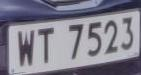2: (103, 19, 120, 57)
3: (119, 14, 137, 56)
5: (87, 20, 103, 56)
7: (65, 20, 84, 64)
T: (36, 25, 59, 70)
W: (14, 23, 39, 70)
